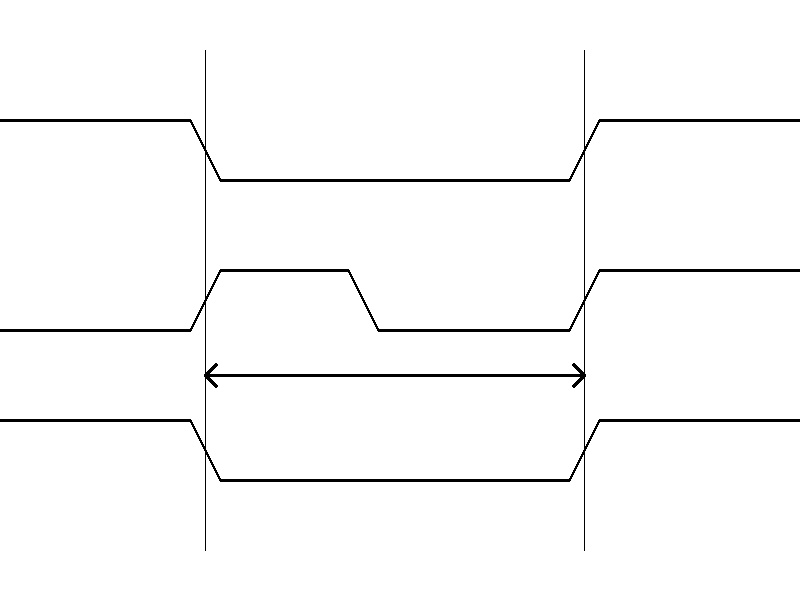double_arrow: (205, 360, 584, 390)
